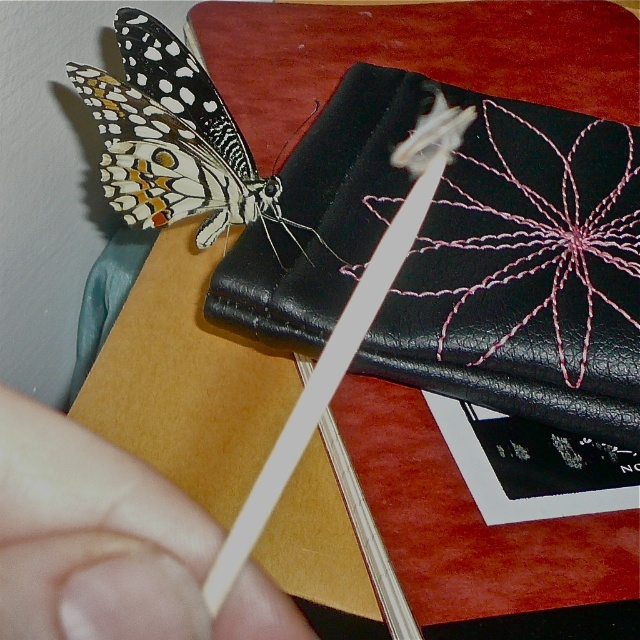Butterfly: (71, 18, 383, 271)
